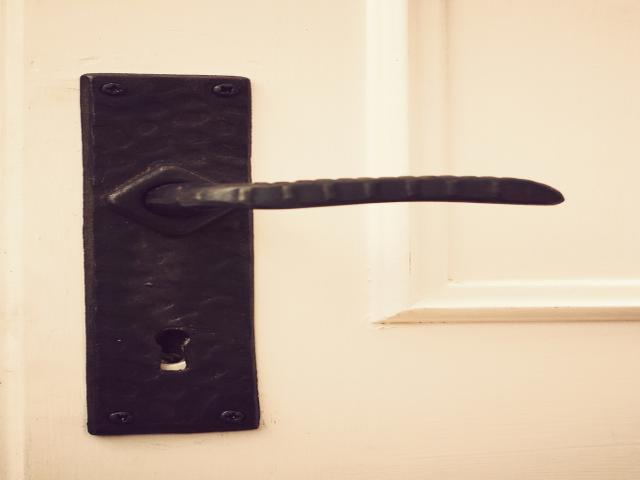Door-handle: (80, 72, 564, 436)
